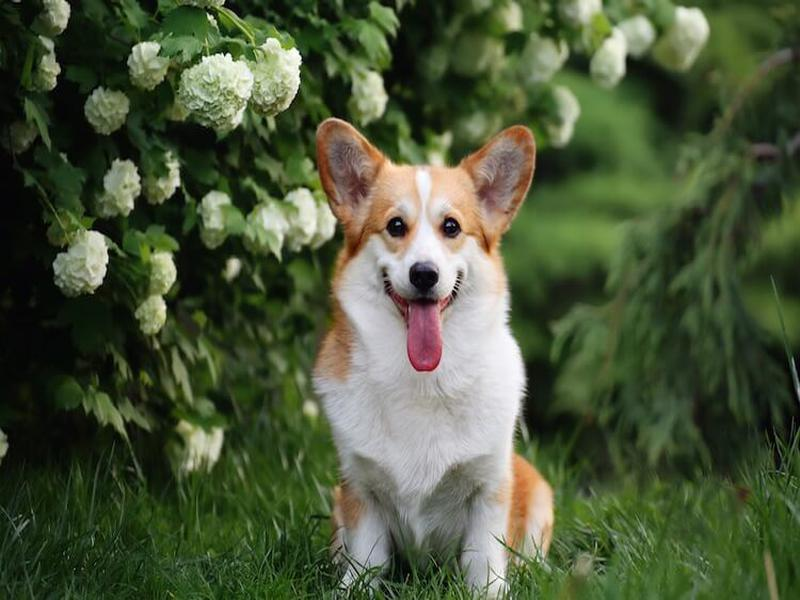corgi: (314, 114, 540, 373)
